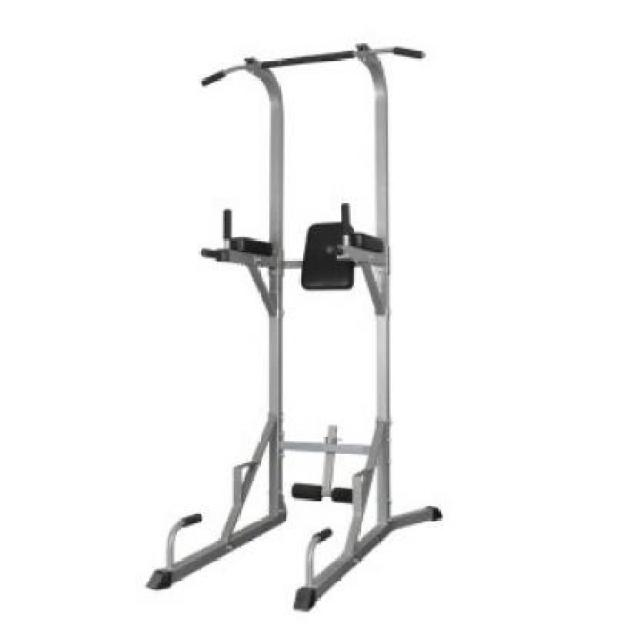chinning dipping: (146, 43, 446, 611)
